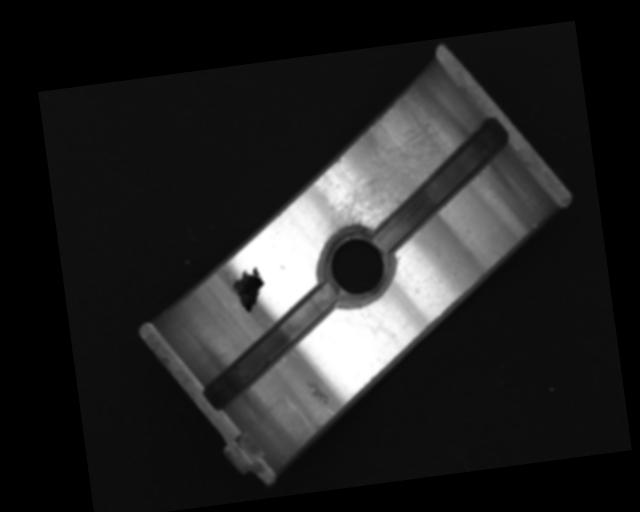blot: (229, 265, 269, 316)
bruise: (304, 376, 331, 407)
gap: (359, 118, 521, 255), (191, 284, 347, 413)
hole: (312, 221, 401, 310)
scratch: (311, 86, 462, 240)
